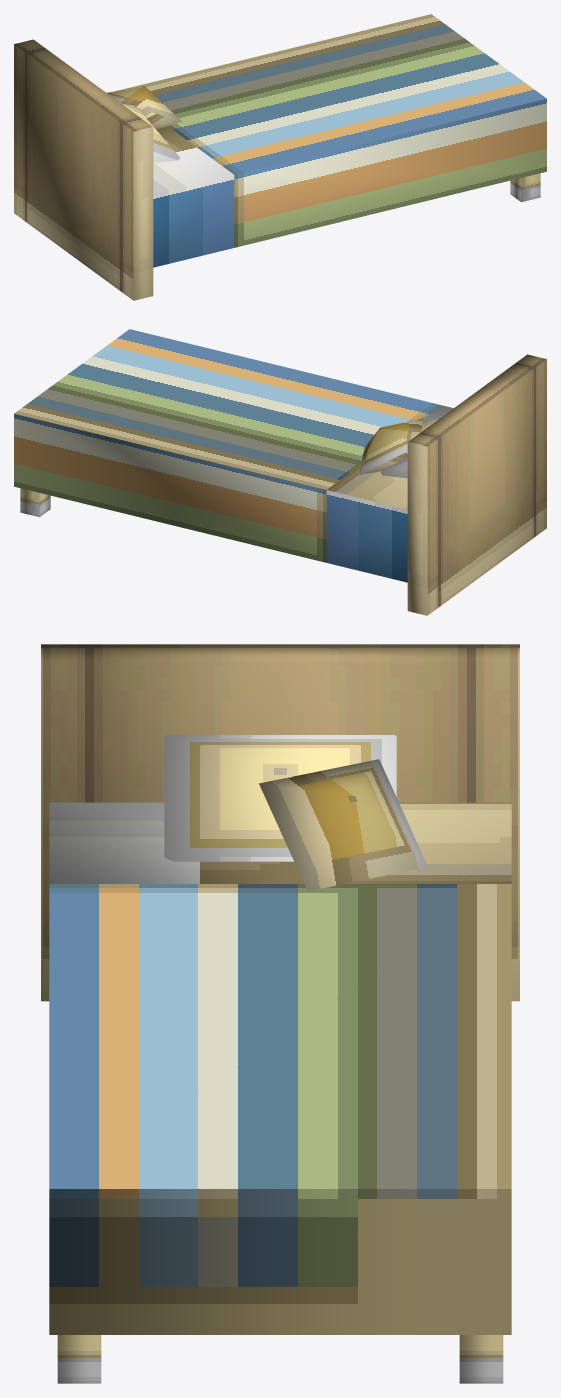
The picture shows the model from 3 angles, top to bottom: view 1: azimuth 30°, elevation 25°; view 2: azimuth 150°, elevation 25°; view 3: azimuth 270°, elevation 25°; orthographic projection. The views are drawn at different scales.
Parts seen in each view (by area): view 1: 3116IMRL09_05; view 2: 3116IMRL09_05; view 3: 3116IMRL09_05.
Boxes of the visible parts, box(x1,y1,x2,y2) form: 3116IMRL09_05: box(14, 14, 546, 300); 3116IMRL09_05: box(14, 329, 546, 615); 3116IMRL09_05: box(41, 644, 519, 1383).
Size of the model in its own units: 1.92 by 0.7488 by 0.9604.
Materials: 3 (3 with a texture image).
